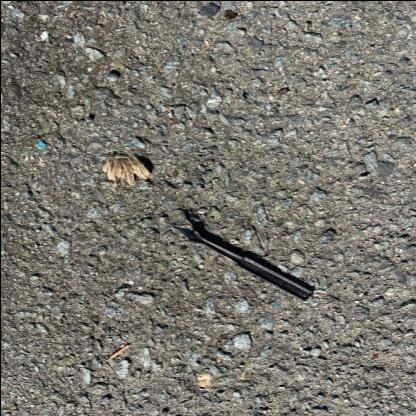Broken glass: (224, 10, 236, 19), (278, 87, 287, 93), (373, 352, 378, 356), (350, 83, 355, 86), (9, 407, 13, 410)
Other litter: (172, 224, 314, 300)
Other plastic: (40, 30, 48, 40), (37, 139, 45, 148)
